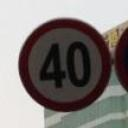speed_limit_40: (19, 20, 113, 112)
